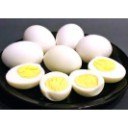begg: (4, 42, 43, 63), (45, 46, 82, 68), (71, 69, 102, 95), (6, 65, 43, 86)
